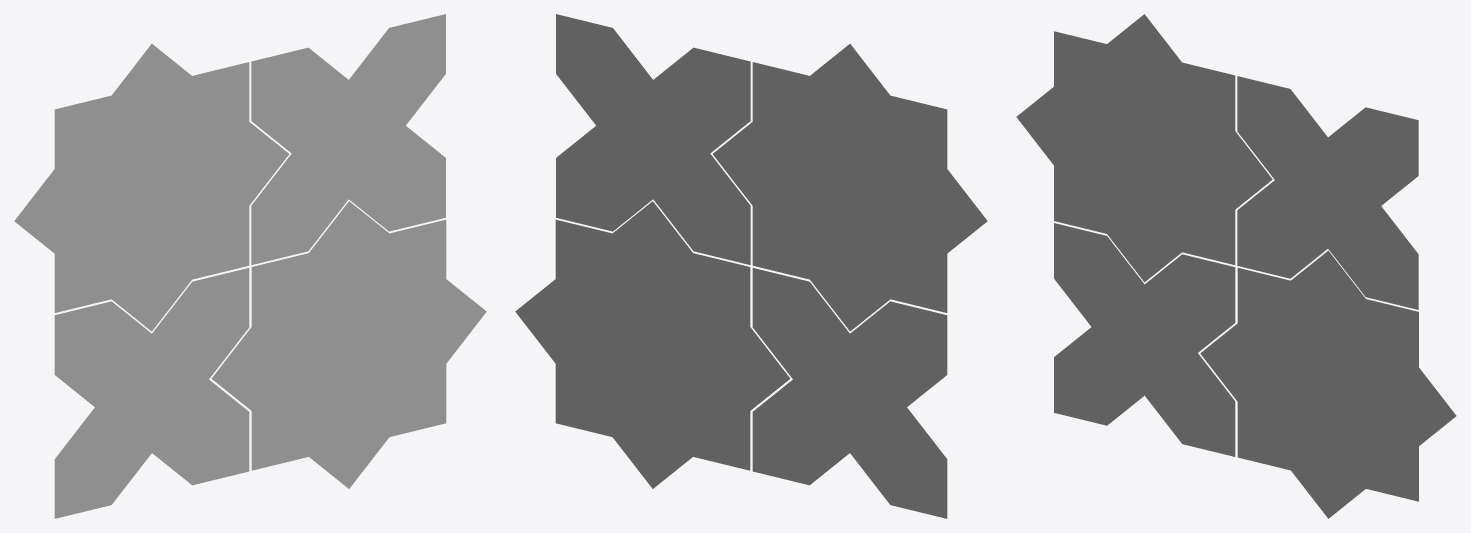
File: stargazer.gltf
3 renders of one model, left to right at view 1: azimuth 30°, elevation 25°; view 2: azimuth 150°, elevation 25°; view 3: azimuth 330°, elevation 25°, orthographic. The views are drawn at different scales.
Visible parts, largest first — view 1: stargazer; view 2: stargazer; view 3: stargazer.
Part boxes in pixels (left/top/right/bottom): stargazer: left=14, top=14, right=486, bottom=518; stargazer: left=515, top=14, right=987, bottom=518; stargazer: left=1016, top=14, right=1456, bottom=518.
Bounding box in the file's own units: 1480 × 1477 × 0.
Materials: 4 (4 with a texture image).
